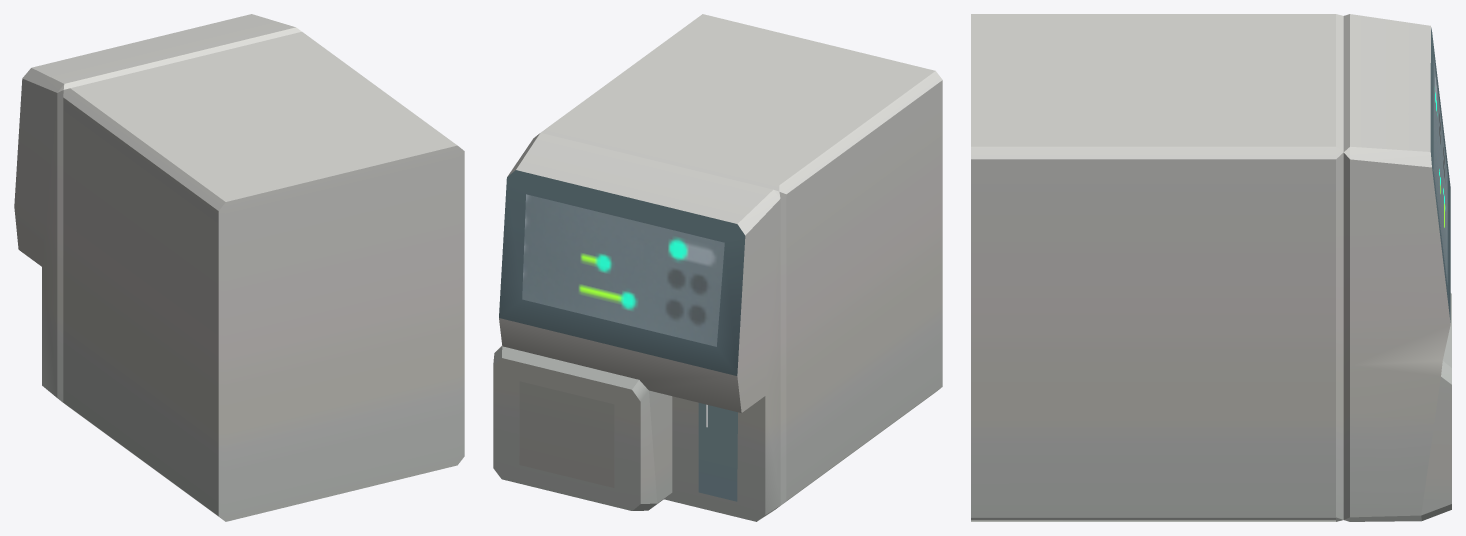
The model's file is Pfb_JLAB_Hematology_Analyzer.fbx.
3 views of the same model, side by side, from view 1: azimuth 30°, elevation 25°; view 2: azimuth 150°, elevation 25°; view 3: azimuth 270°, elevation 25° (orthographic). The views are drawn at different scales.
Parts seen in each view (by area): view 1: Color; view 2: Color, Monitors; view 3: Color, Monitors.
Boxes of the visible parts, <box> form: Color: <box>14,14,464,521</box>; Color: <box>493,14,942,521</box>; Monitors: <box>522,194,724,346</box>; Color: <box>971,14,1451,521</box>; Monitors: <box>1433,57,1447,284</box>.
Size of the model in its own units: 0.35 by 0.435 by 0.505.
3 materials, 3 textured.
